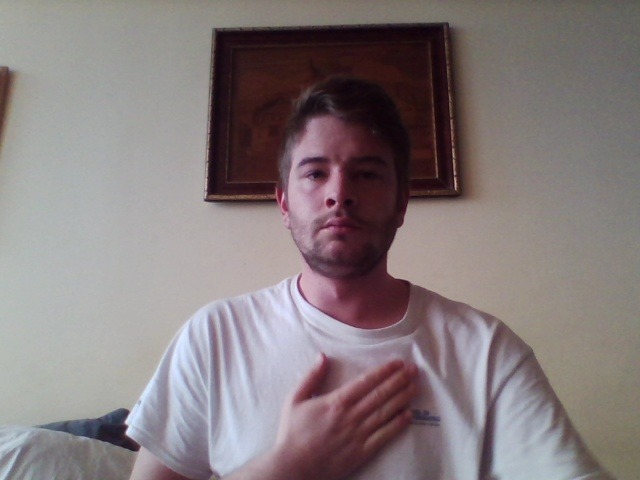molimte: (273, 350, 428, 480)
